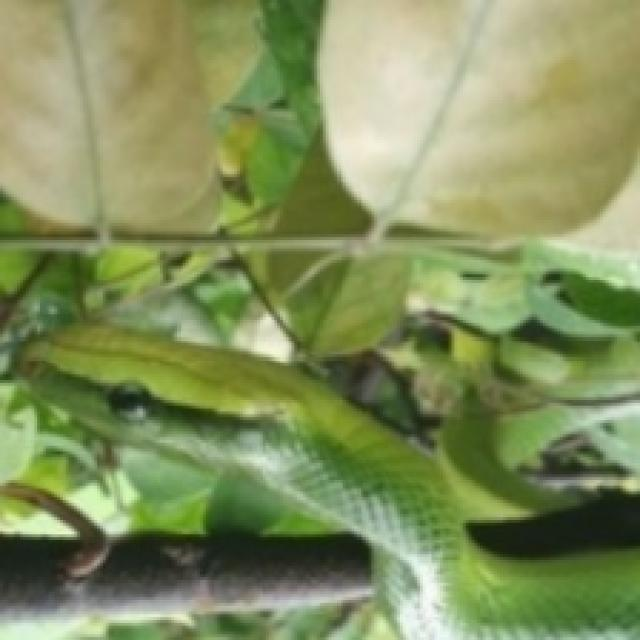red-tailed green ratsnake: (21, 324, 640, 640)
